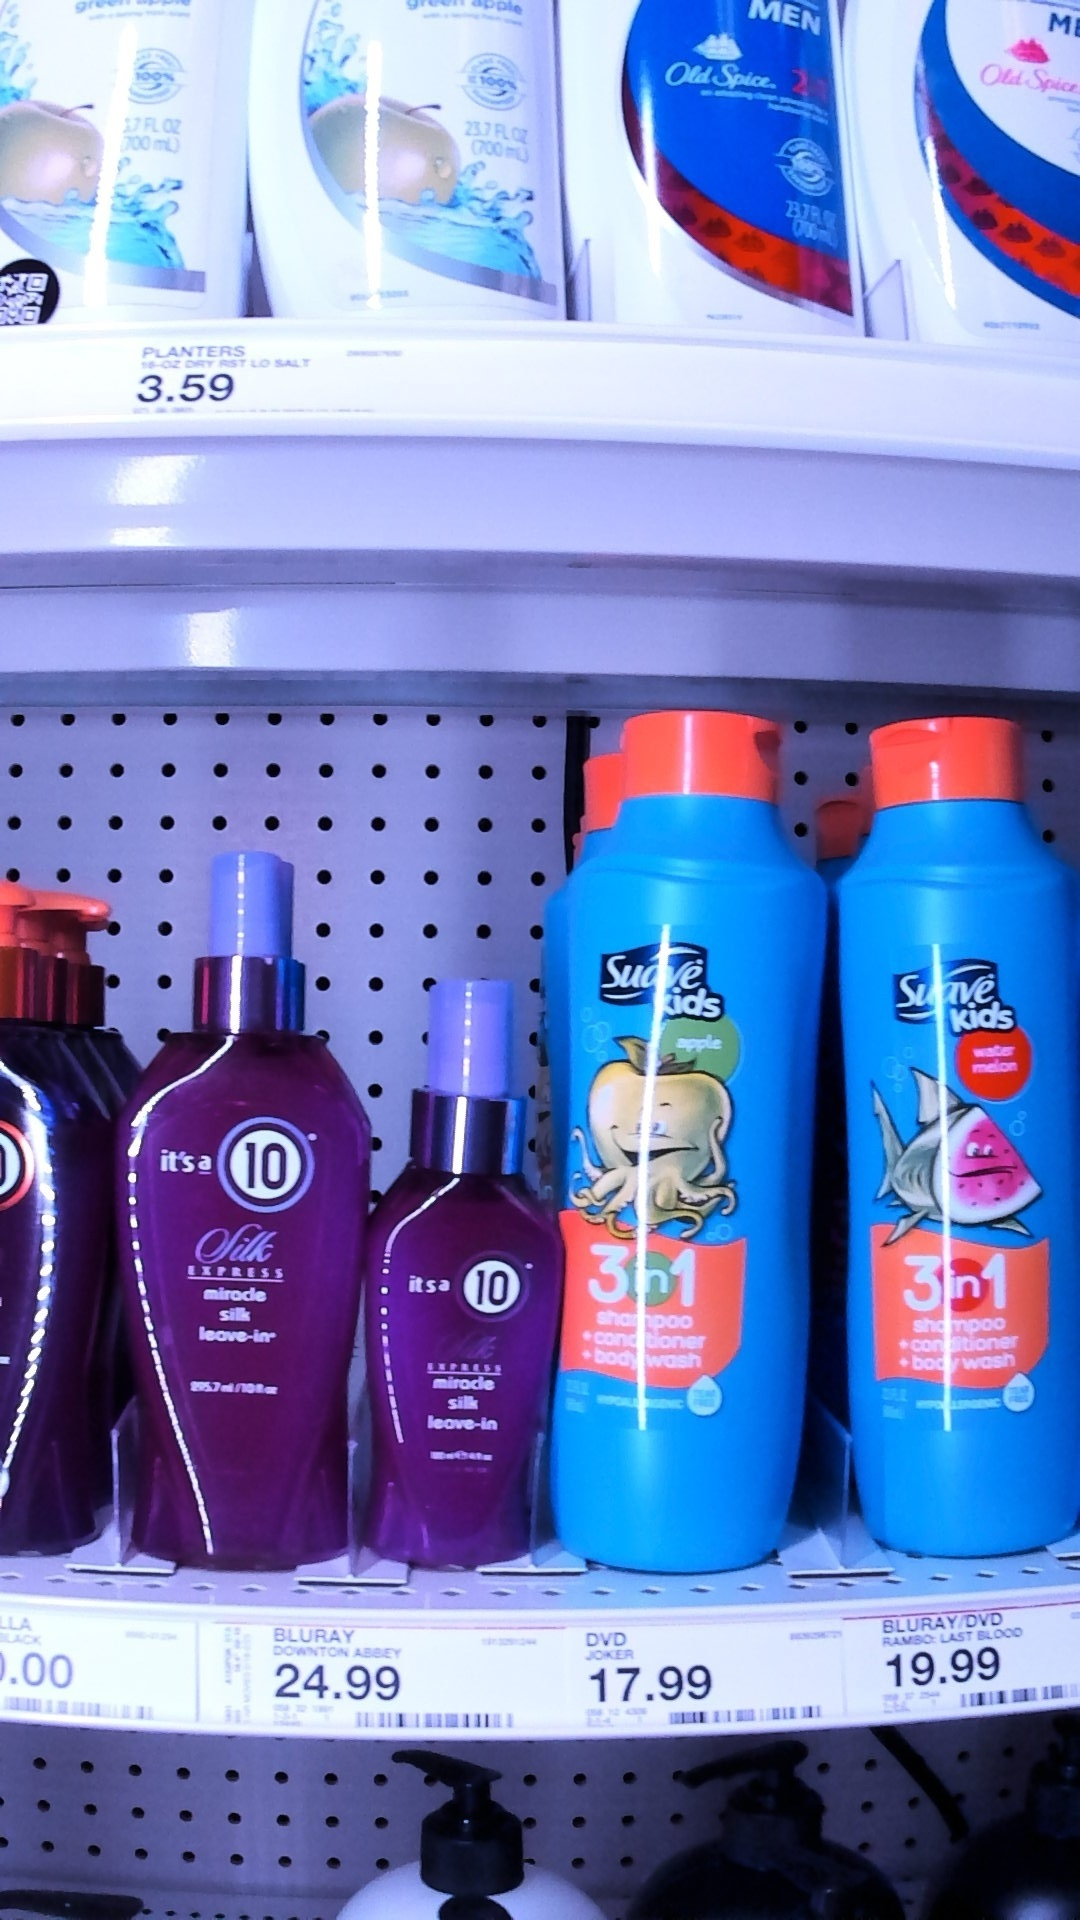ptag: (237, 1622, 524, 1742), (129, 324, 404, 436), (580, 1619, 837, 1731), (1, 1615, 202, 1727), (878, 1613, 1080, 1716)
